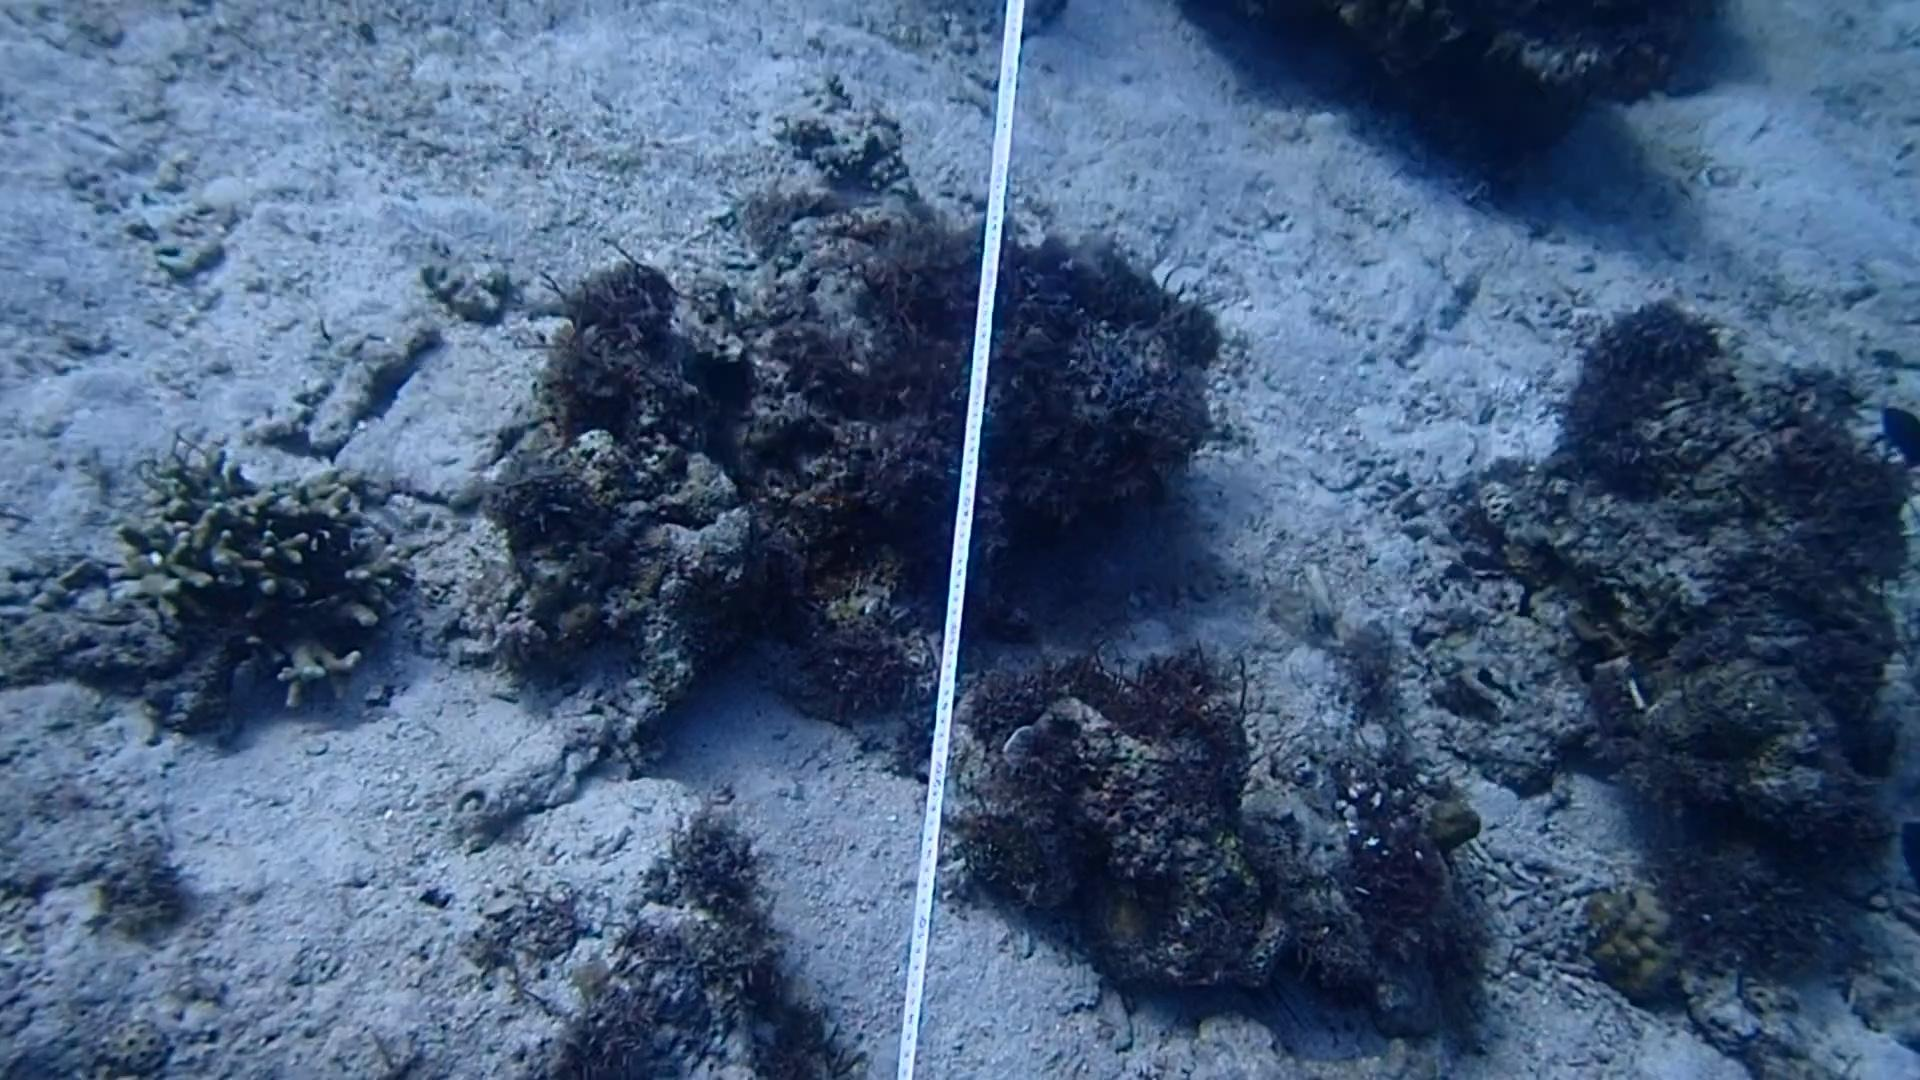Dark Fish: (1865, 384, 1920, 472)
